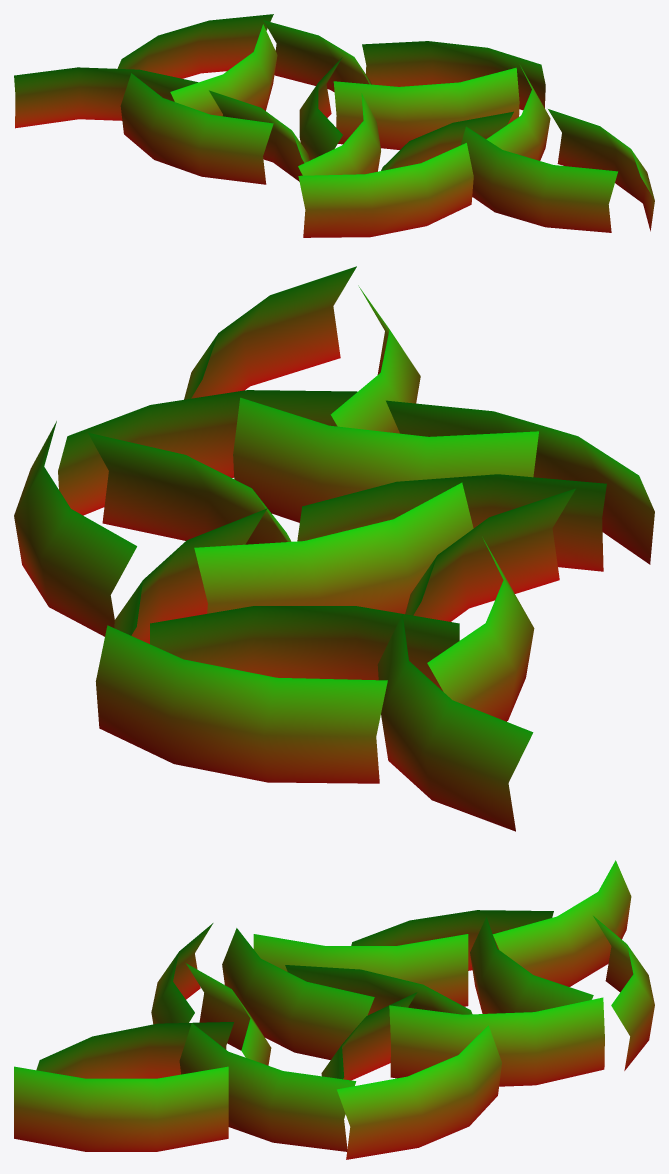
File: Grass.FBX
3 views of the same model, one above another, from view 1: azimuth 30°, elevation 25°; view 2: azimuth 150°, elevation 25°; view 3: azimuth 270°, elevation 25° (orthographic). The views are drawn at different scales.
Visible parts, largest first — view 1: Grass_Test; view 2: Grass_Test; view 3: Grass_Test.
Part boxes in pixels (box(x1,y1,x2,y2)): Grass_Test: box(14, 14, 654, 237); Grass_Test: box(14, 266, 654, 831); Grass_Test: box(14, 860, 654, 1159).
Bounding box in the file's own units: 189 × 25 × 218.
